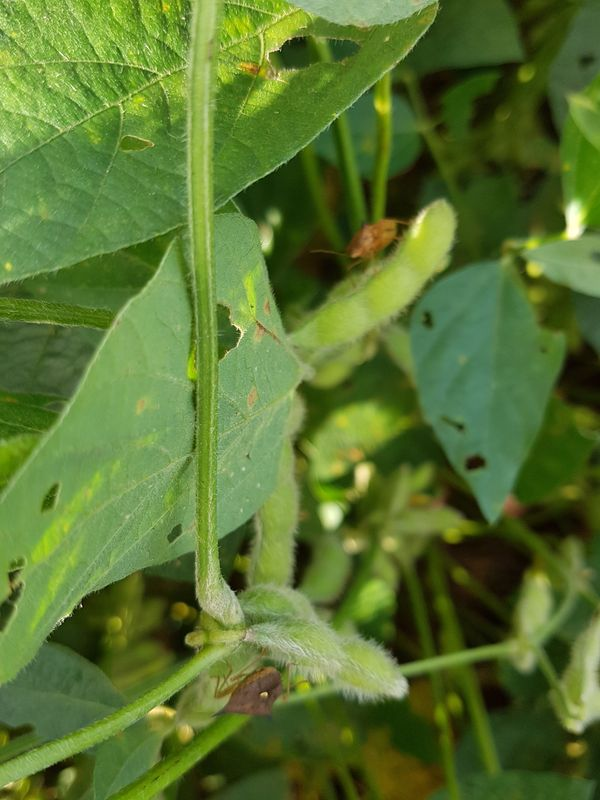Euschistus_heros_adulto: (308, 200, 427, 297), (204, 648, 300, 742)
